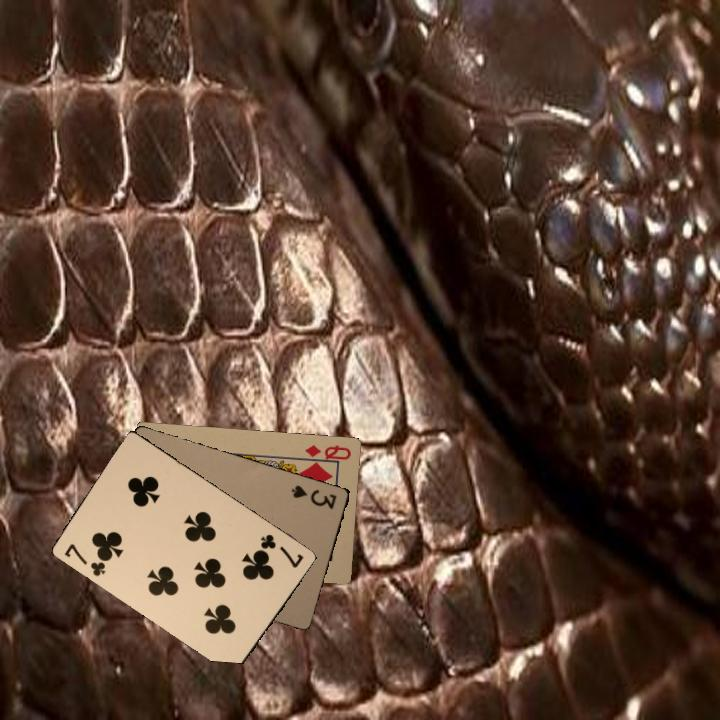3s: (287, 481, 339, 512)
7c: (60, 539, 112, 579), (256, 530, 306, 571)
Qd: (297, 440, 354, 465)
